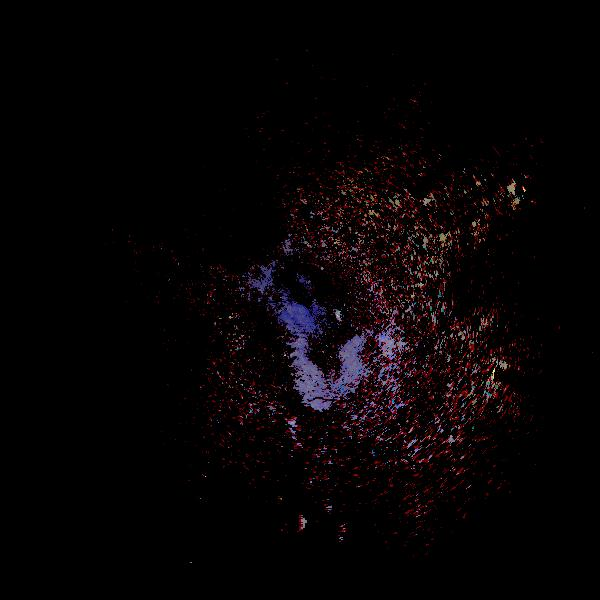roost: (287, 513, 308, 534)
